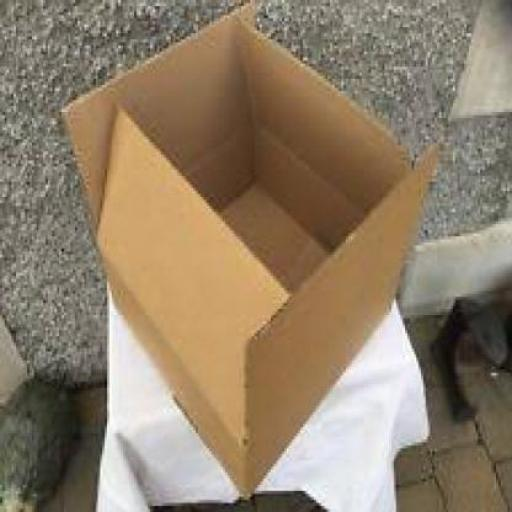cardboard: (59, 0, 436, 489), (88, 97, 286, 436), (244, 142, 434, 428)
